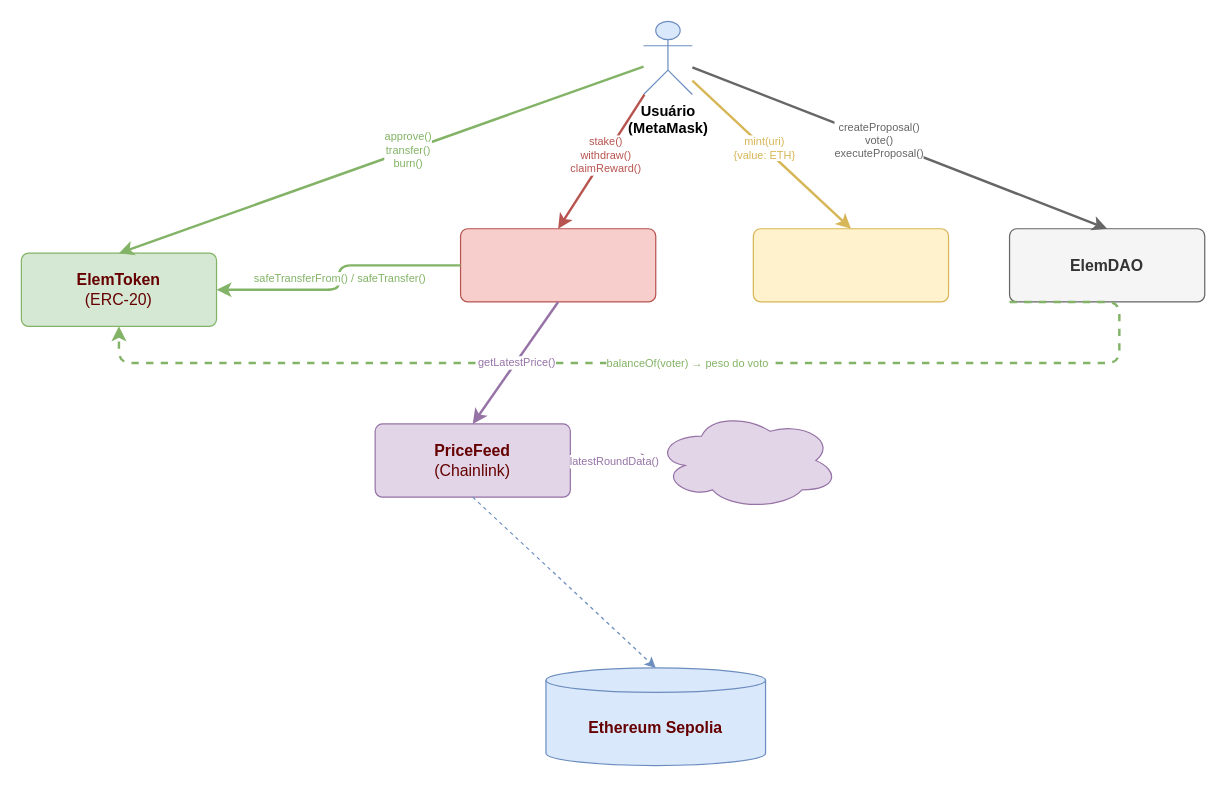
The diagram is 1226 pixels wide and 787 high, and some of its shapes have lost their labels. The box of each missing label's shape, as (x1, y1, x2, y2) in pixels:
Chainlink ETH/USD: (655, 411, 839, 509)
ElemNFT (ERC-721): (752, 228, 949, 302)
ElemStaking: (459, 228, 656, 302)
